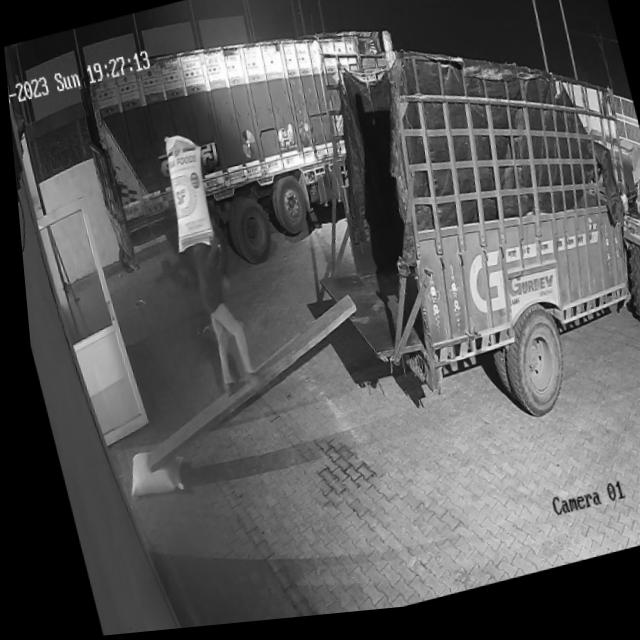sack: (149, 131, 219, 258), (114, 443, 181, 504)
